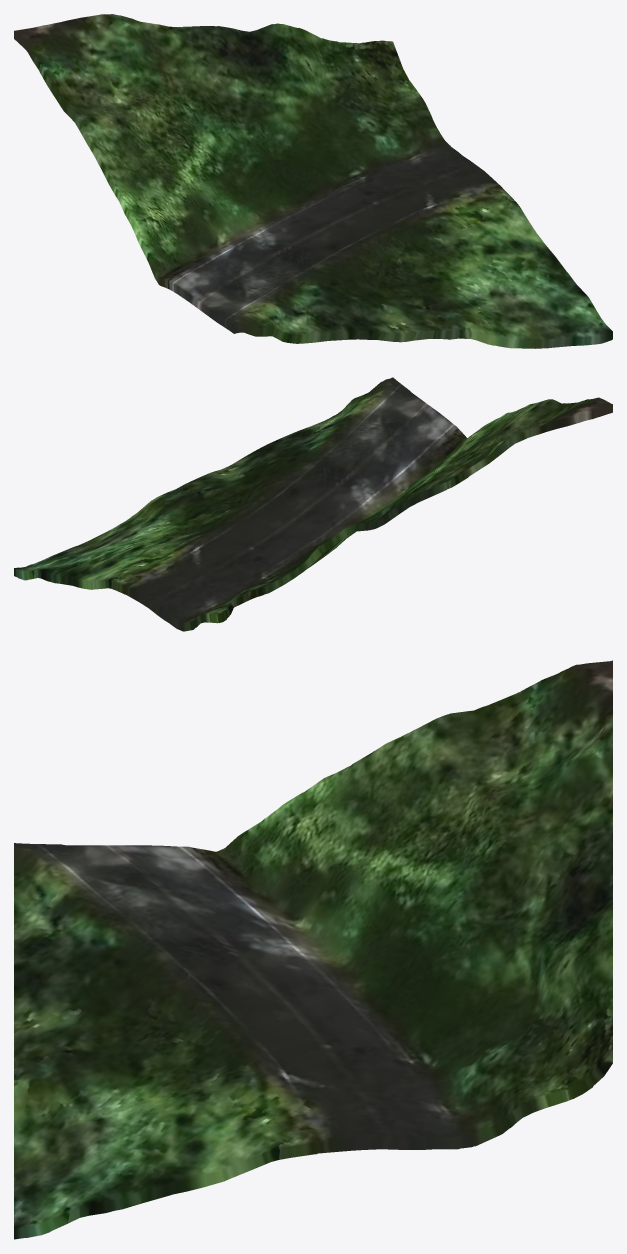
File: z20-167565-405177-h0-yup-uvflip-v3-world.glb
3 renders of one model, top to bottom at view 1: azimuth 30°, elevation 25°; view 2: azimuth 210°, elevation 25°; view 3: azimuth 270°, elevation 25°, orthographic. The views are drawn at different scales.
Size of the model in its own units: 30.16 by 18.4 by 30.32.
Materials: 1 (1 with a texture image).
